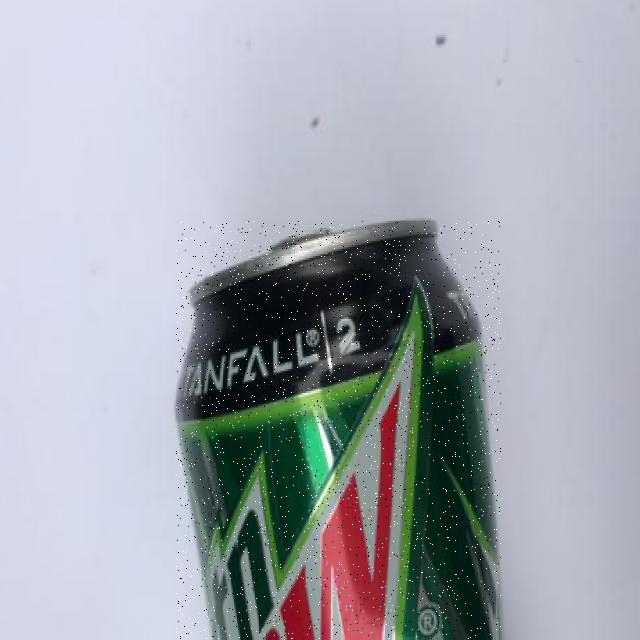metal: (176, 222, 501, 639)
